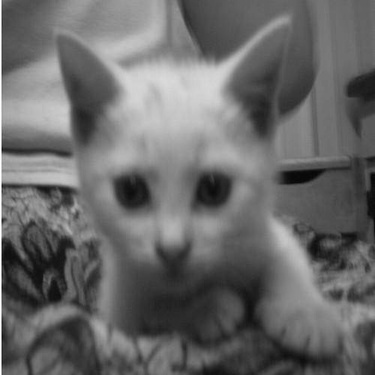cat: (28, 2, 356, 357)
